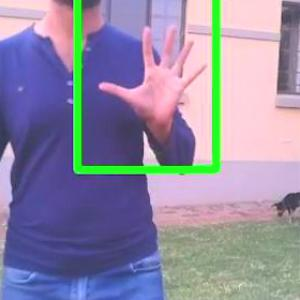follow_hand: (101, 19, 212, 130)
